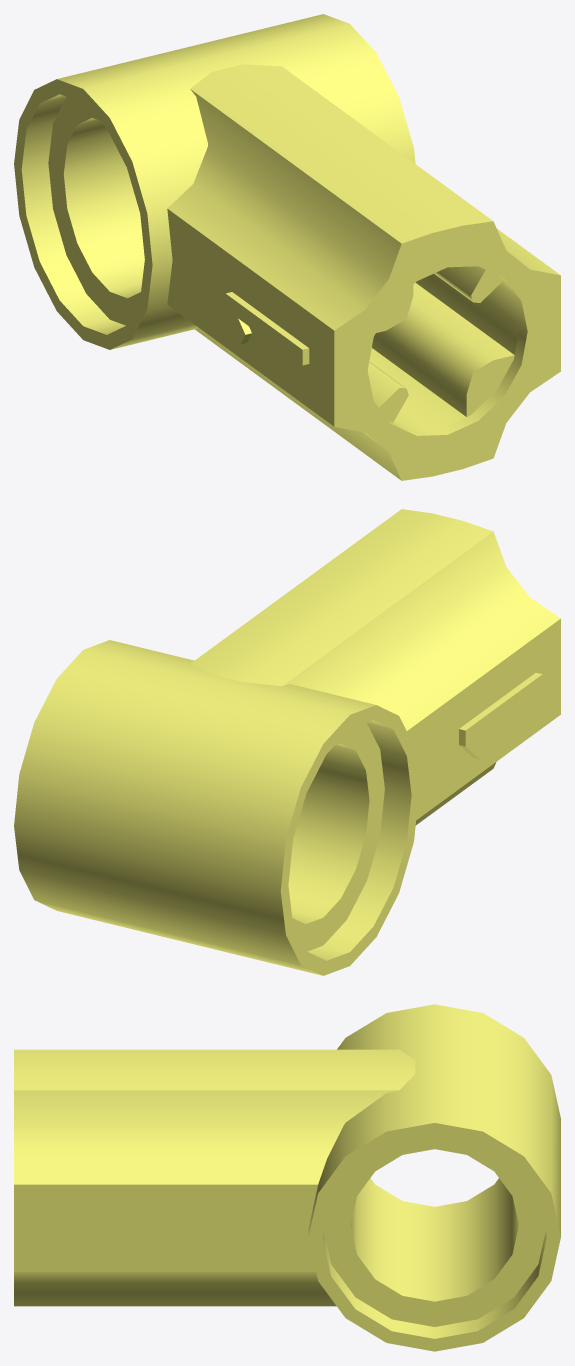
The picture shows the model from 3 angles, top to bottom: view 1: azimuth 30°, elevation 25°; view 2: azimuth 150°, elevation 25°; view 3: azimuth 270°, elevation 25°; orthographic projection. The views are drawn at different scales.
Parts seen in each view (by area): view 1: 32013.dat; view 2: 32013.dat; view 3: 32013.dat.
Part boxes in pixels (box(x1,y1,x2,y2)): 32013.dat: box(14, 14, 560, 480); 32013.dat: box(14, 509, 560, 975); 32013.dat: box(14, 1004, 560, 1351).
Bounding box in the file's own units: 0.008 × 0.0072 × 0.0156.
